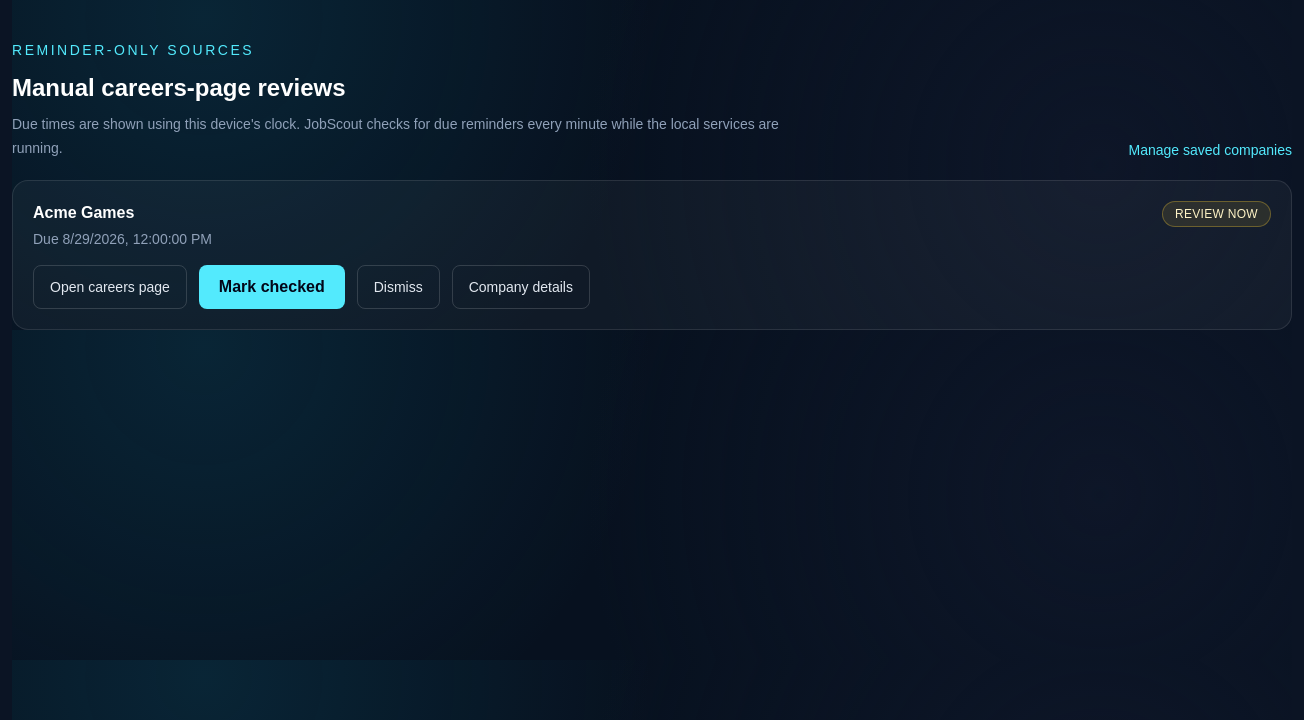
Test: manual review reminders › shows a due reminder in local time and marks it checked
Expected: the text "Review now" is shown, left=1162, top=201, right=1271, bottom=227
Click the button "Mark checked" at x=272, y=287, box left=199, top=265, right=345, bottom=309
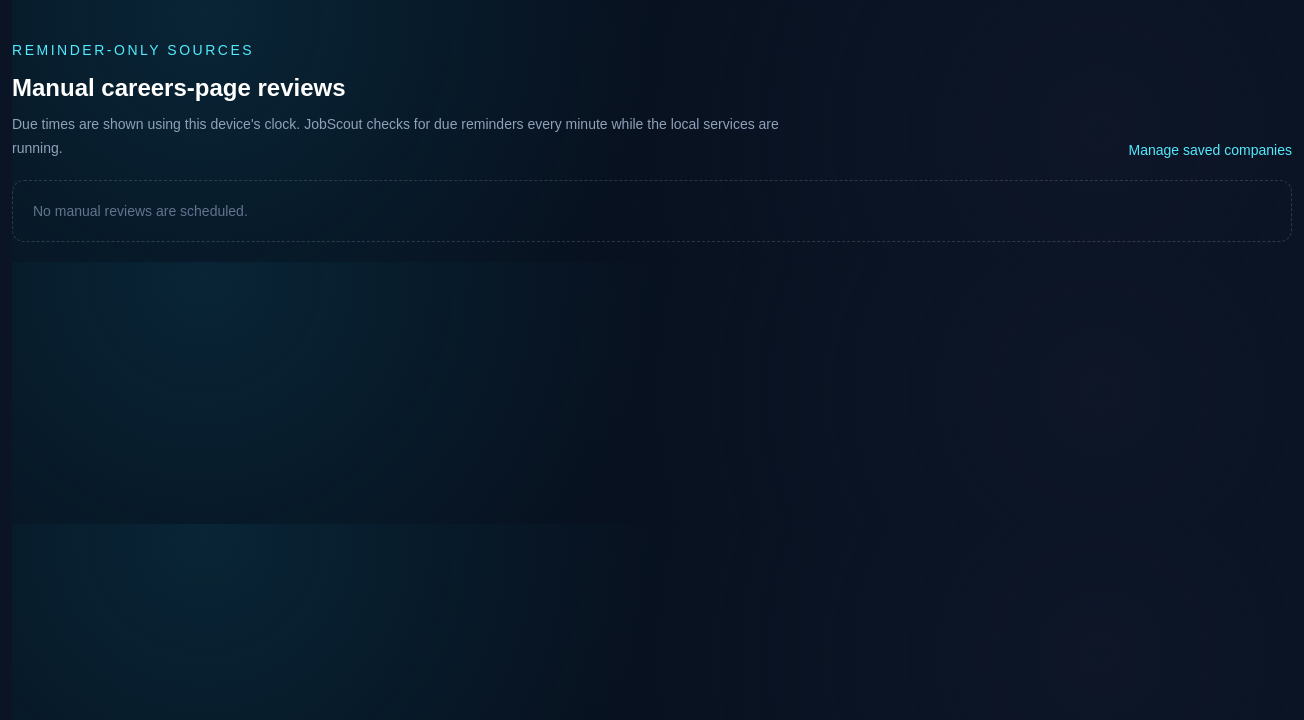
Result: the heading "Acme Games" is gone
